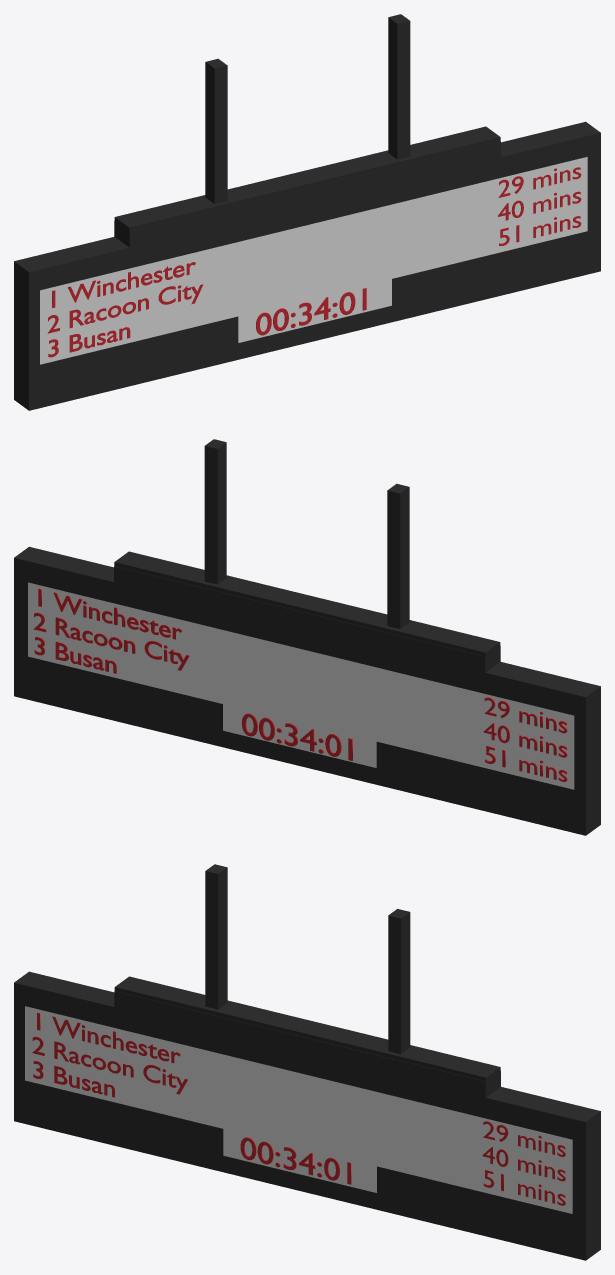
The model's file is DeparturesBoard.fbx.
3 views of the same model, one above another, from view 1: azimuth 30°, elevation 25°; view 2: azimuth 150°, elevation 25°; view 3: azimuth 330°, elevation 25° (orthographic).
Visible parts, largest first — view 1: Text.005; view 2: Text.005; view 3: Text.005.
Boxes of the visible parts, x1=… form: Text.005: x1=14, y1=14, x2=600, y2=410; Text.005: x1=14, y1=439, x2=600, y2=835; Text.005: x1=14, y1=864, x2=600, y2=1260.
Size of the model in its own units: 1093 by 537 by 55.25.
